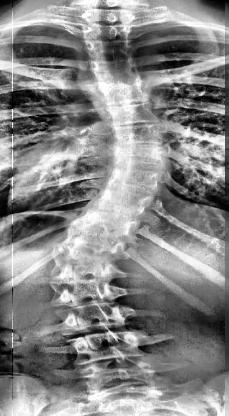Vertebrae: (78, 357, 165, 391), (55, 280, 135, 312), (68, 334, 144, 366), (62, 255, 130, 289), (57, 303, 133, 333), (101, 184, 159, 219), (83, 204, 140, 238), (67, 227, 128, 257), (108, 162, 166, 193), (104, 104, 166, 132), (115, 142, 171, 170), (116, 121, 166, 149), (84, 22, 134, 48), (101, 82, 153, 106), (96, 60, 146, 84), (89, 38, 140, 60), (84, 6, 134, 26)
